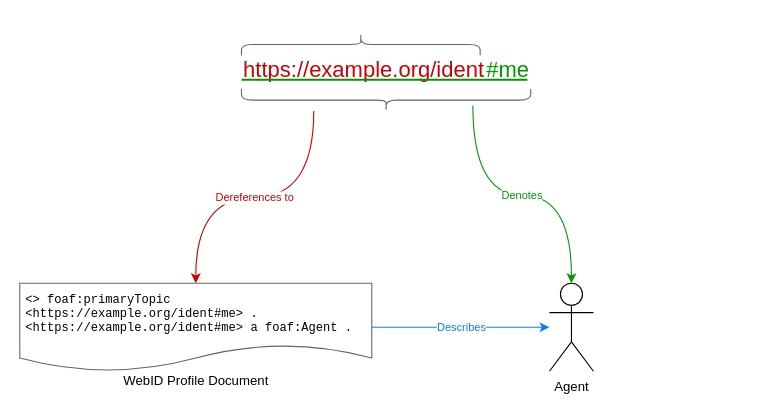
Some shapes in this 767 by 417 pixel diagram are drawn without their labels. The shapes that lost their labels are listed below. From the top down, each one's centre as x and y in pixels, then its label:
At (360,44): "URL of WebID Profile Document".
At (385,99): "WebID".
